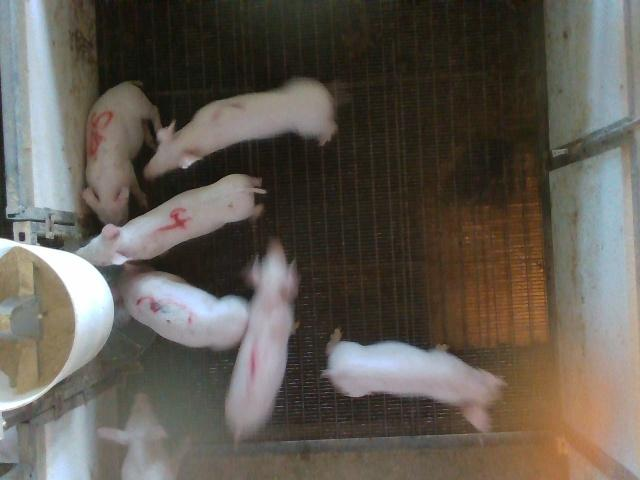pig-1: (225, 239, 299, 443)
pig-2: (144, 78, 338, 179)
pig-3: (119, 264, 249, 349)
pig-4: (76, 175, 265, 266)
pig-5: (82, 81, 161, 226)
